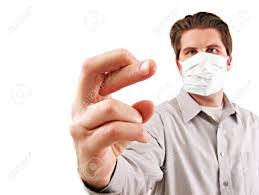masked: (161, 9, 243, 100)
